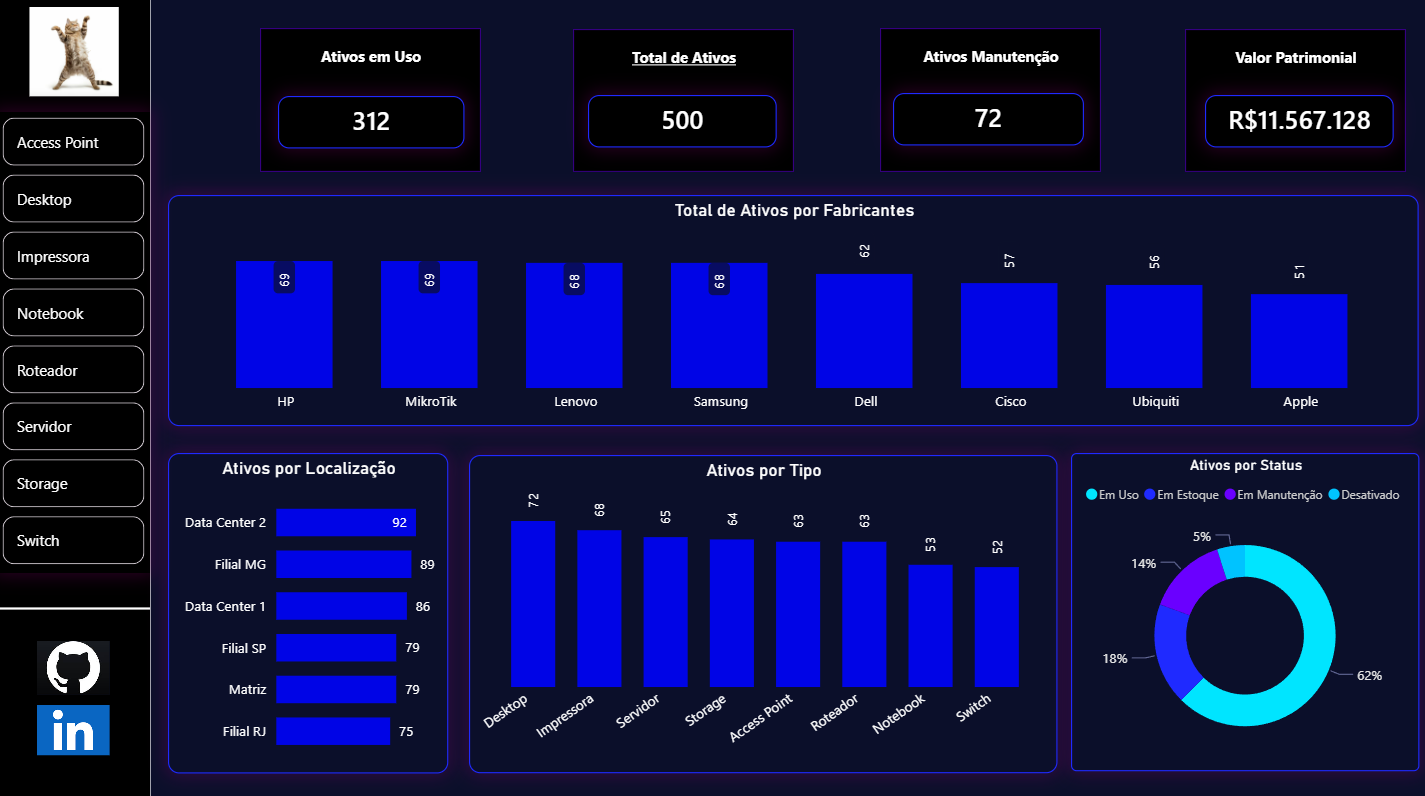

This screenshot's page, from the dashboard's own definition file:
{"tool":"powerbi","page":{"name":"Gestão de Ativos","canvas":[1280,720],"ordinal":2},"visuals":[{"type":"group","id":"g1","title":"Grupo 3","box":[0,0,145.1,720],"z":0},{"type":"shape","box":[0,0,137,720],"z":0,"group":"g10"},{"type":"shape","box":[235.5,28.7,197.9,129],"z":0,"group":"g6"},{"type":"shape","box":[790.7,28.7,197.9,129],"z":0,"group":"g7"},{"type":"shape","box":[515.8,29.6,197.9,128.1],"z":0,"group":"g8"},{"type":"shape","box":[1063.9,29.6,197.9,128.1],"z":0,"group":"g9"},{"type":"group","id":"g2","title":"Grupo 2","box":[235.5,28.7,197.9,129],"z":1000},{"type":"card","title":"Lucro","fields":{"Values":["Ativos_TI.Ativos Manutencao"]},"box":[802.7,86.7,171,46.9],"z":1000,"group":"g7"},{"type":"card","title":"Lucro","fields":{"Values":["Ativos_TI.Total Ativos"]},"box":[529.3,89.1,169.3,46.6],"z":1000,"group":"g8"},{"type":"card","title":"Lucro","fields":{"Values":["Ativos_TI.Valor Patrimonio"]},"box":[1082.1,89.1,169.3,46.6],"z":1000,"group":"g9"},{"type":"card","title":"Lucro","fields":{"Values":["Ativos_TI.Ativos em Uso"]},"box":[251.3,89.4,167.5,46.9],"z":1000,"group":"g6"},{"type":"group","id":"g3","title":"Grupo 2","box":[515.8,29.6,197.9,128.1],"z":2000},{"type":"group","id":"g4","title":"Grupo 2","box":[790.7,28.7,197.9,129],"z":3000},{"type":"group","id":"g5","title":"Grupo 2","box":[1063.9,29.6,197.9,128.1],"z":4000},{"type":"group","id":"g6","title":"Grupo 1","box":[235.5,28.7,197.9,129],"z":5000,"group":"g2"},{"type":"group","id":"g7","title":"Grupo 1","box":[790.7,28.7,197.9,129],"z":5000,"group":"g4"},{"type":"group","id":"g8","title":"Grupo 1","box":[515.8,29.6,197.9,128.1],"z":5000,"group":"g3"},{"type":"group","id":"g9","title":"Grupo 1","box":[1063.9,29.6,197.9,128.1],"z":5000,"group":"g5"},{"type":"columnChart","title":"Ativos por Tipo","fields":{"Category":["Ativos_TI.TipoAtivo"],"Y":["CountNonNull(Ativos_TI.AtivoID)"]},"box":[422.7,411,526.6,284.8],"z":5000},{"type":"textbox","box":[251.6,40.4,166.6,31.6],"z":6000,"group":"g2"},{"type":"textbox","box":[806.8,40.4,166.6,31.6],"z":6000,"group":"g4"},{"type":"textbox","box":[531.9,41.2,166.6,31.3],"z":6000,"group":"g3"},{"type":"textbox","box":[1080,41.2,166.6,31.3],"z":6000,"group":"g5"},{"type":"barChart","title":"Ativos por Localização","fields":{"Category":["Ativos_TI.Localizacao"],"Y":["CountNonNull(Ativos_TI.AtivoID)"]},"box":[153.1,409.3,250.7,286.6],"z":6000},{"type":"donutChart","title":"Ativos por Status","fields":{"Category":["Ativos_TI.StatusAtivo"],"Y":["CountNonNull(Ativos_TI.AtivoID)"]},"box":[961.8,409.3,311.6,284.8],"z":7000},{"type":"lineClusteredColumnComboChart","title":"Total de Ativos por Fabricantes","fields":{"Category":["Ativos_TI.Fabricante"],"Y":["CountNonNull(Ativos_TI.TipoAtivo)"]},"box":[153.1,178.2,1120.3,206.9],"z":8000},{"type":"shape","box":[128.1,0,17,720],"z":8001,"group":"g1"},{"type":"actionButton","box":[35.8,634.9,65.4,44.8],"z":9000},{"type":"actionButton","box":[35.8,577.6,65.4,48.4],"z":10000},{"type":"shape","box":[0,536.4,137,24.2],"z":10001,"group":"g10"},{"type":"group","id":"g10","title":"Grupo 4","box":[0,0,137,720],"z":10002,"group":"g1"},{"type":"advancedSlicerVisual","fields":{"Values":["Ativos_TI.TipoAtivo"]},"box":[0,103.9,137,412.8],"z":11000},{"type":"image","box":[8.1,9.9,121.8,79.7],"z":12000}]}

Visuals, with their boxes on the page's 1280x720 design canvas (x1, y1, x2, y2). These are canvas units, not pixel positions in the 1425x796 screenshot, which may show the page scaled, cropped or inside an application window:
"Grupo 3" group: x1=0, y1=0, x2=145, y2=720
shape: x1=0, y1=0, x2=137, y2=720
shape: x1=236, y1=29, x2=433, y2=158
shape: x1=791, y1=29, x2=989, y2=158
shape: x1=516, y1=30, x2=714, y2=158
shape: x1=1064, y1=30, x2=1262, y2=158
"Grupo 2" group: x1=236, y1=29, x2=433, y2=158
"Lucro" card: x1=803, y1=87, x2=974, y2=134
"Lucro" card: x1=529, y1=89, x2=699, y2=136
"Lucro" card: x1=1082, y1=89, x2=1251, y2=136
"Lucro" card: x1=251, y1=89, x2=419, y2=136
"Grupo 2" group: x1=516, y1=30, x2=714, y2=158
"Grupo 2" group: x1=791, y1=29, x2=989, y2=158
"Grupo 2" group: x1=1064, y1=30, x2=1262, y2=158
"Grupo 1" group: x1=236, y1=29, x2=433, y2=158
"Grupo 1" group: x1=791, y1=29, x2=989, y2=158
"Grupo 1" group: x1=516, y1=30, x2=714, y2=158
"Grupo 1" group: x1=1064, y1=30, x2=1262, y2=158
"Ativos por Tipo" columnChart: x1=423, y1=411, x2=949, y2=696
textbox: x1=252, y1=40, x2=418, y2=72
textbox: x1=807, y1=40, x2=973, y2=72
textbox: x1=532, y1=41, x2=698, y2=72
textbox: x1=1080, y1=41, x2=1247, y2=72
"Ativos por Localização" barChart: x1=153, y1=409, x2=404, y2=696
"Ativos por Status" donutChart: x1=962, y1=409, x2=1273, y2=694
"Total de Ativos por Fabricantes" lineClusteredColumnComboChart: x1=153, y1=178, x2=1273, y2=385
shape: x1=128, y1=0, x2=145, y2=720
actionButton: x1=36, y1=635, x2=101, y2=680
actionButton: x1=36, y1=578, x2=101, y2=626
shape: x1=0, y1=536, x2=137, y2=561
"Grupo 4" group: x1=0, y1=0, x2=137, y2=720
advancedSlicerVisual - Ativos_TI.TipoAtivo: x1=0, y1=104, x2=137, y2=517
image: x1=8, y1=10, x2=130, y2=90
